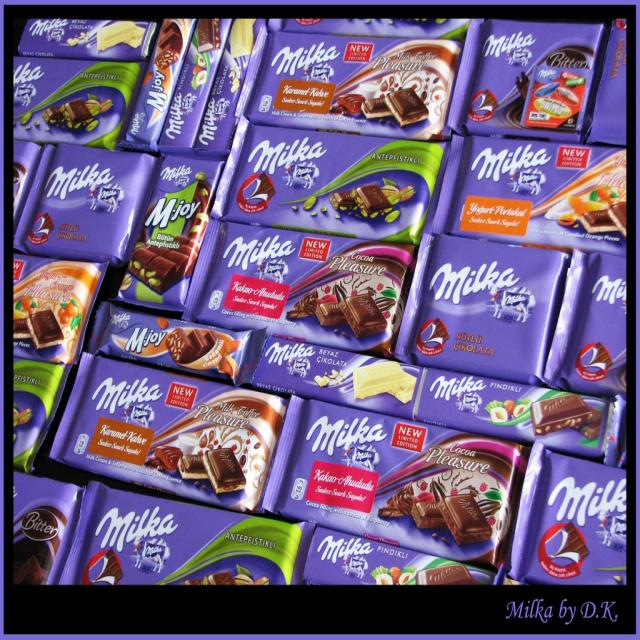milka: (428, 259, 533, 324), (548, 473, 632, 554), (89, 503, 179, 574), (305, 414, 390, 474), (469, 142, 552, 199), (43, 159, 123, 216), (249, 136, 328, 190), (89, 374, 164, 428), (222, 234, 296, 285), (270, 38, 341, 83), (314, 534, 374, 582), (2, 59, 51, 117), (477, 25, 539, 69), (588, 271, 640, 315), (265, 339, 315, 380), (195, 93, 230, 149), (163, 92, 201, 143), (430, 373, 483, 409), (27, 16, 72, 47), (160, 160, 193, 191), (126, 110, 147, 138), (113, 311, 131, 333)
